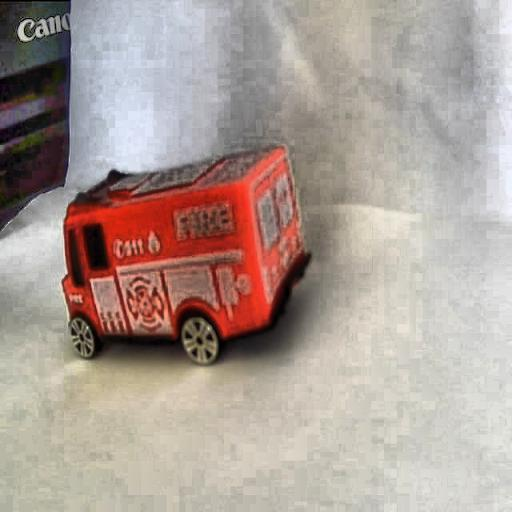fire_truck: (51, 134, 314, 372)
